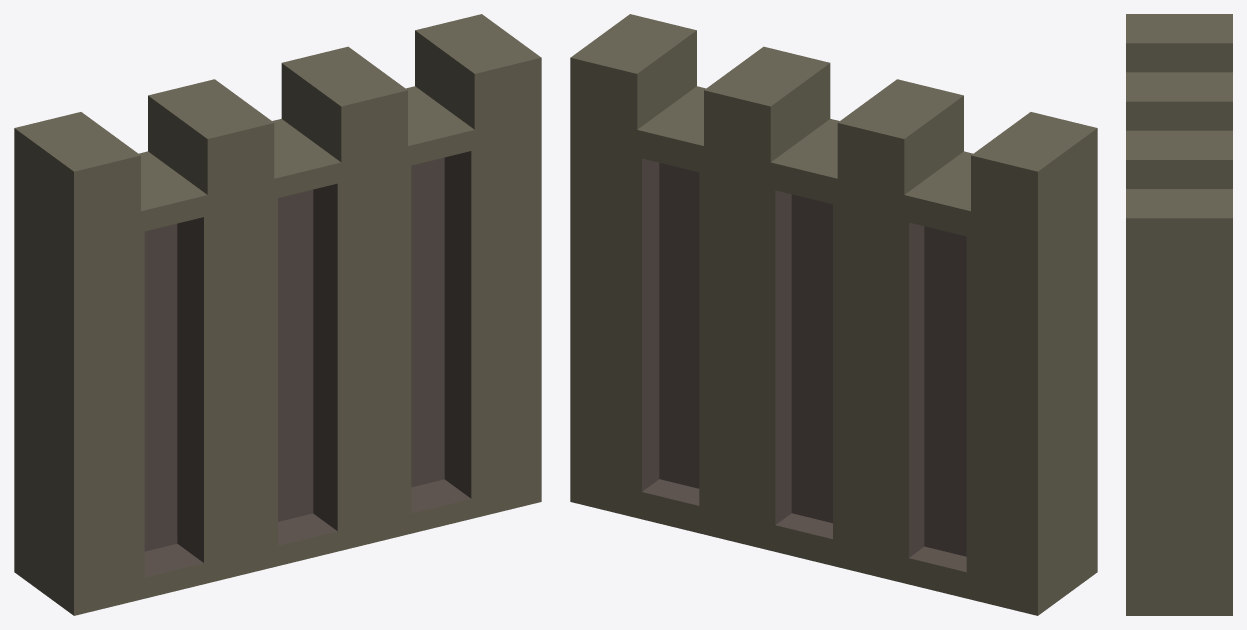
Rendered from PAREDE.fbx.
The picture shows the model from 3 angles, left to right: view 1: azimuth 30°, elevation 25°; view 2: azimuth 150°, elevation 25°; view 3: azimuth 270°, elevation 25°; orthographic projection. The views are drawn at different scales.
Parts seen in each view (by area): view 1: Cube; view 2: Cube; view 3: Cube.
Part boxes in pixels (x1,y1,x2,y2): Cube: (14,14,541,615); Cube: (570,14,1097,615); Cube: (1126,14,1232,615).
Bounding box in the file's own units: 525 × 477 × 116.
